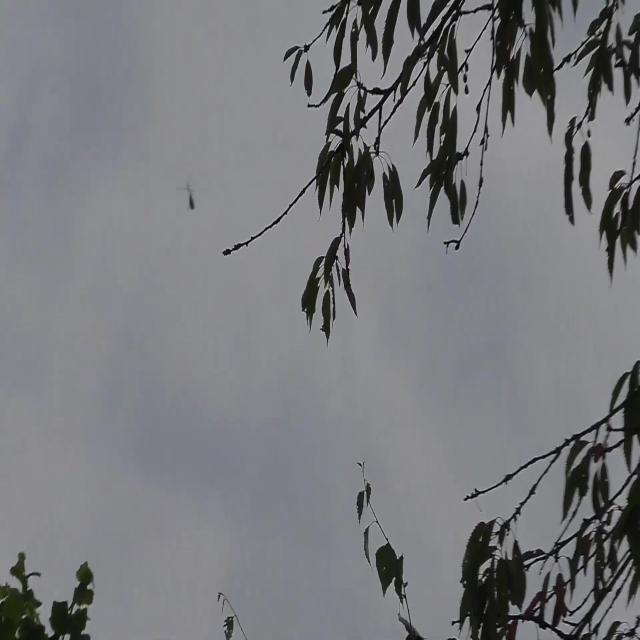CIV_HELO: (186, 183, 196, 212)
